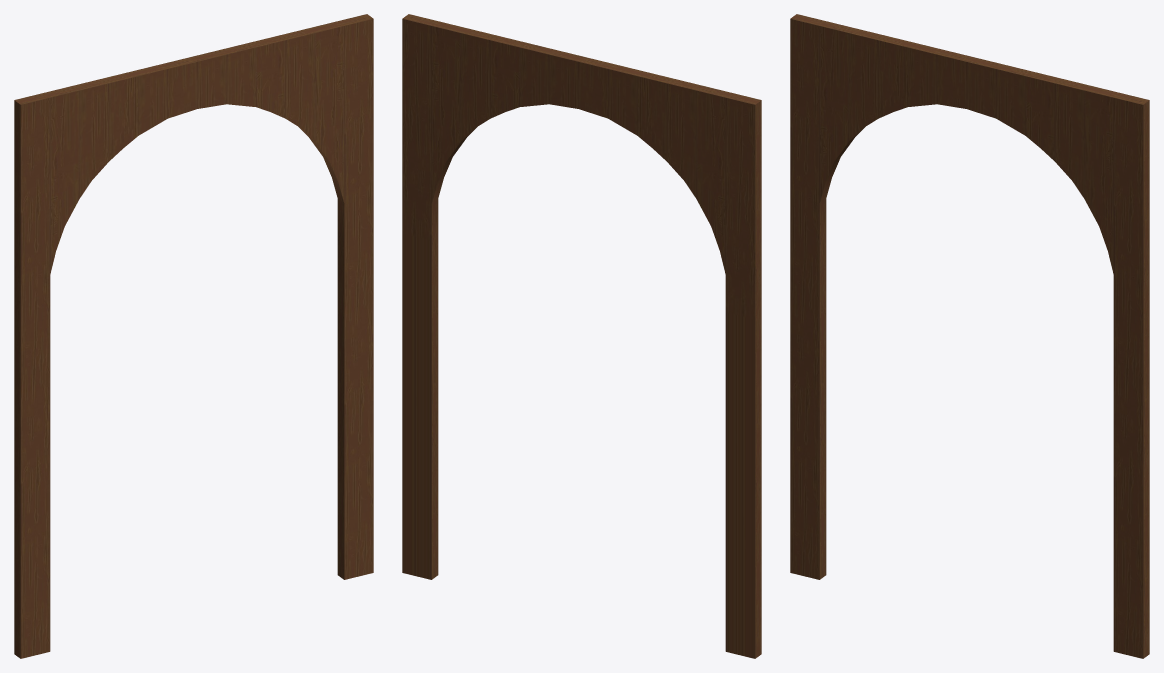
File: wall_arch.glb
3 renders of one model, left to right at view 1: azimuth 30°, elevation 25°; view 2: azimuth 150°, elevation 25°; view 3: azimuth 330°, elevation 25°, orthographic.
Parts seen in each view (by area): view 1: Wall_Arch; view 2: Wall_Arch; view 3: Wall_Arch.
Boxes of the visible parts, left/top/right/bottom form: Wall_Arch: left=14, top=14, right=373, bottom=658; Wall_Arch: left=402, top=14, right=761, bottom=658; Wall_Arch: left=790, top=14, right=1149, bottom=658.
Bounding box in the file's own units: 2 × 3 × 0.0641.
Materials: 1 (1 with a texture image).
